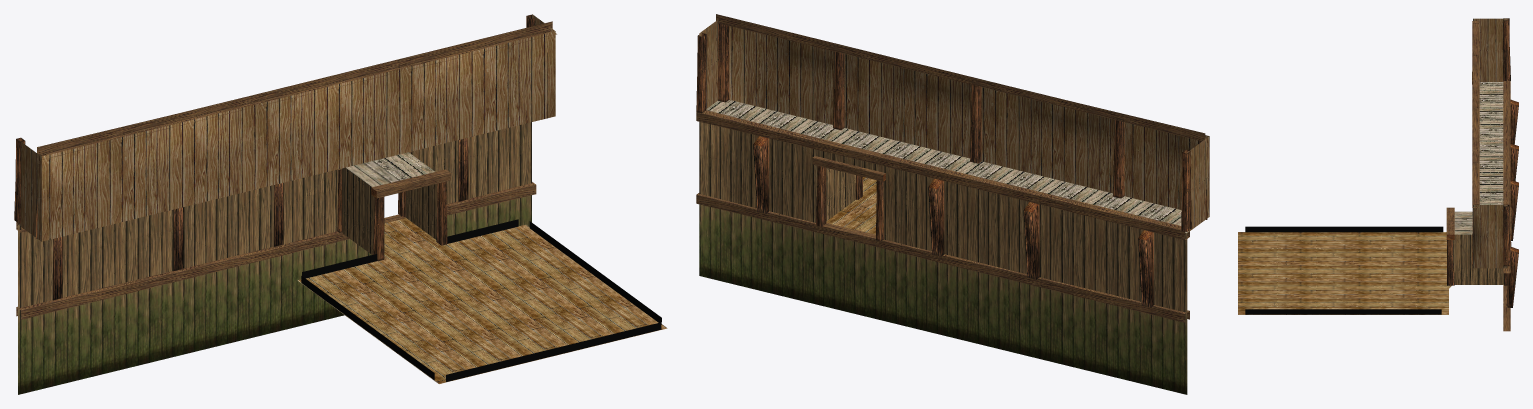
Rendered from LAKETOWN_WAREHOUSE2_PS_WH2_SIDEWALL38837__GX.fbx.
3 views of the same model, side by side, from view 1: azimuth 30°, elevation 25°; view 2: azimuth 150°, elevation 25°; view 3: azimuth 270°, elevation 25° (orthographic). The views are drawn at different scales.
Parts seen in each view (by area): view 1: LAKETOWN_WAREHOUSE2_PS_WH2_SIDEWALL38837__GX; view 2: LAKETOWN_WAREHOUSE2_PS_WH2_SIDEWALL38837__GX; view 3: LAKETOWN_WAREHOUSE2_PS_WH2_SIDEWALL38837__GX.
Part boxes in pixels (x1,y1,x2,y2): LAKETOWN_WAREHOUSE2_PS_WH2_SIDEWALL38837__GX: (14,14,667,394); LAKETOWN_WAREHOUSE2_PS_WH2_SIDEWALL38837__GX: (696,14,1209,394); LAKETOWN_WAREHOUSE2_PS_WH2_SIDEWALL38837__GX: (1238,18,1518,331).
Bounding box in the file's own units: 226654 × 109530 × 143354.
Materials: 12 (12 with a texture image).
